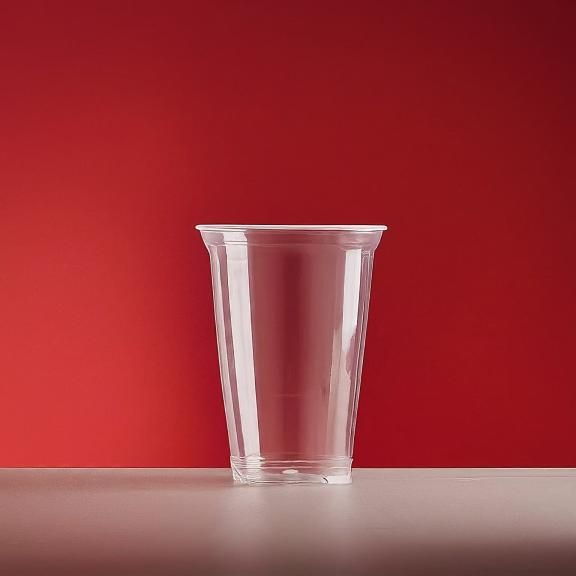Plastik: (197, 225, 386, 483)
